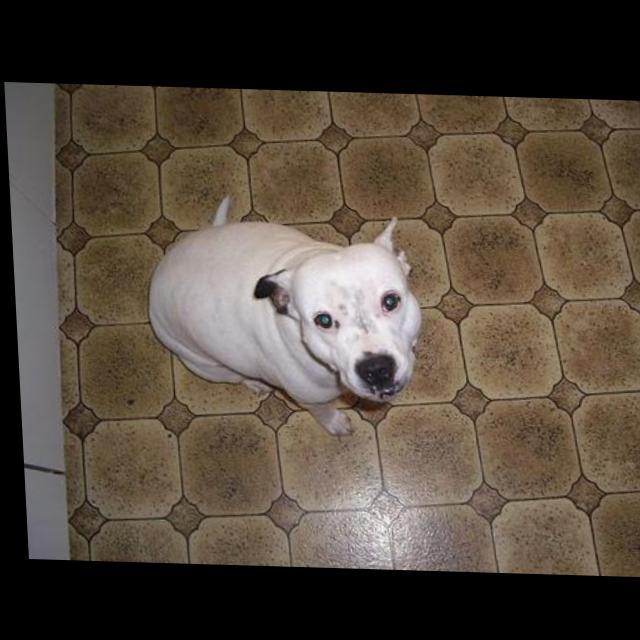staffford: (139, 192, 424, 436)
